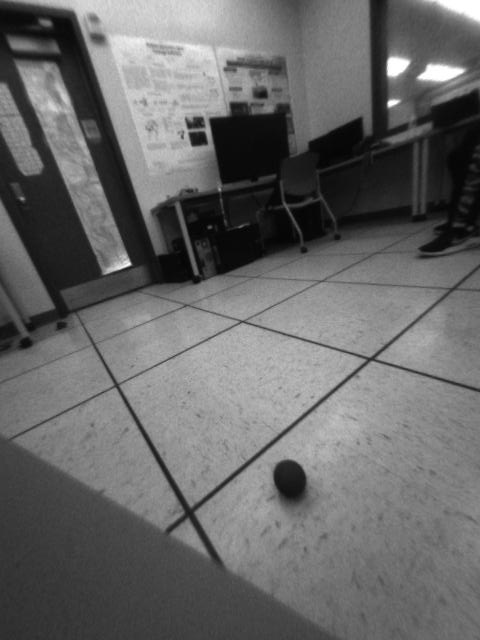dogtoy: (262, 455, 314, 510)
